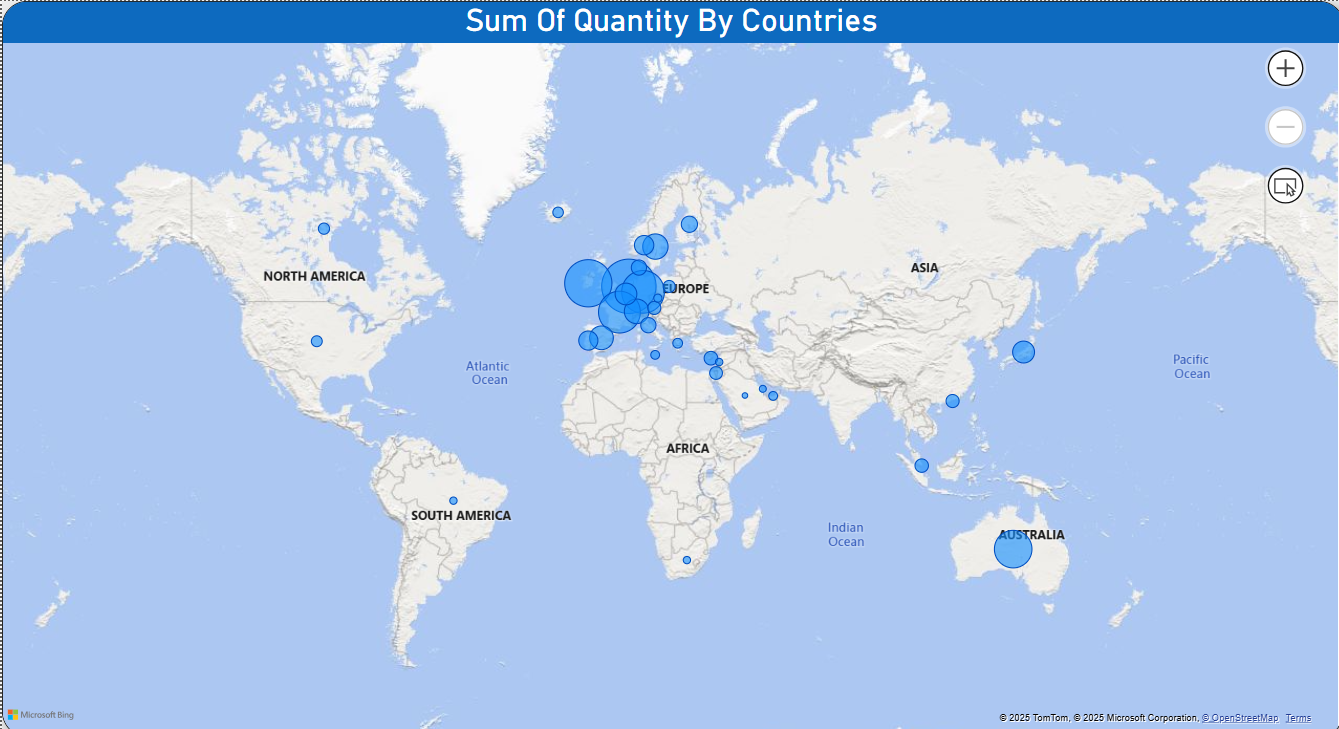

Layout of this report page (visuals, bound fields, positions):
{"tool":"powerbi","page":{"name":"Question4","canvas":[1280,720],"ordinal":3},"visuals":[{"type":"map","title":"Sum Of Quantity By Countries","fields":{"Category":["Online Retail.Country"],"Size":["Sum(Online Retail.Quantity)"]},"box":[0,0,1280,701.2],"z":0}]}

Visuals, with their boxes on the page's 1280x720 design canvas (x1, y1, x2, y2). These are canvas units, not pixel positions in the 1339x729 screenshot, which may show the page scaled, cropped or inside an application window:
"Sum Of Quantity By Countries" map: bbox=(0, 0, 1280, 701)
